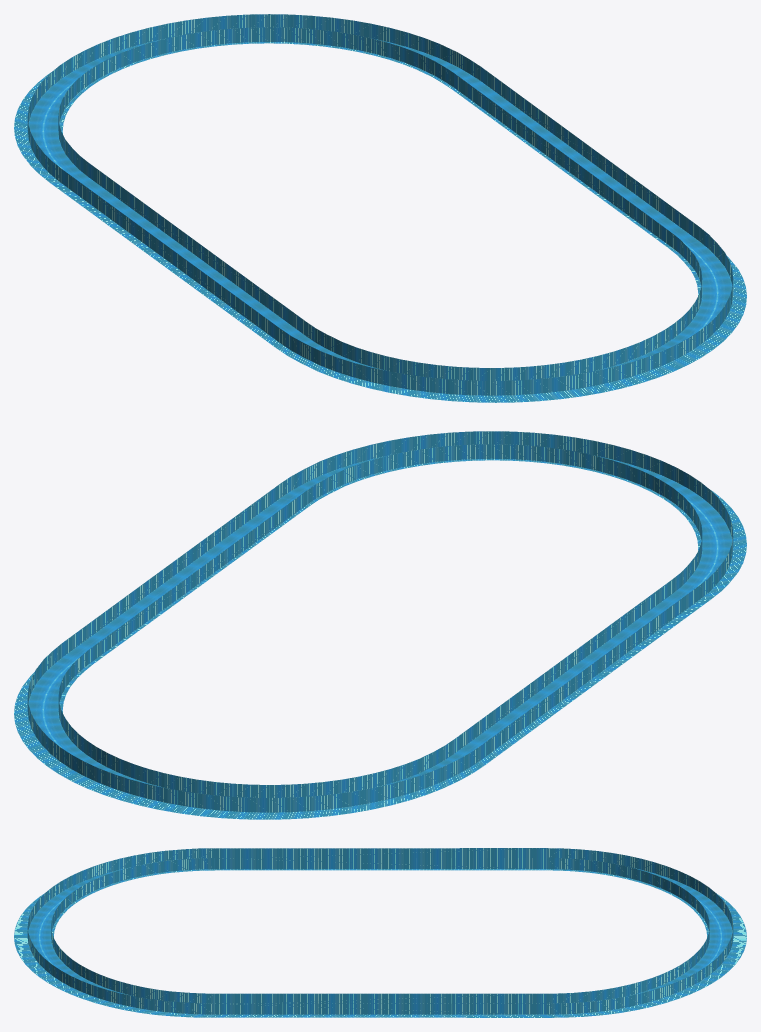
The picture shows the model from 3 angles, top to bottom: view 1: azimuth 30°, elevation 25°; view 2: azimuth 150°, elevation 25°; view 3: azimuth 270°, elevation 25°; orthographic projection. The views are drawn at different scales.
Parts seen in each view (by area): view 1: CJ_saidao1, CJ_tmqY, CJ_tmqZ; view 2: CJ_saidao1, CJ_tmqY, CJ_tmqZ; view 3: CJ_tmqY, CJ_tmqZ, CJ_saidao1.
Part boxes in pixels (<box>): CJ_saidao1: <box>14,38,746,402</box>; CJ_tmqY: <box>27,14,733,395</box>; CJ_tmqZ: <box>58,27,702,380</box>; CJ_saidao1: <box>14,455,746,819</box>; CJ_tmqY: <box>27,431,733,812</box>; CJ_tmqZ: <box>58,444,702,797</box>; CJ_tmqY: <box>27,848,733,1014</box>; CJ_tmqZ: <box>51,858,709,1003</box>; CJ_saidao1: <box>14,868,746,1017</box>.
Size of the model in its own units: 32386 by 1077 by 62062.
